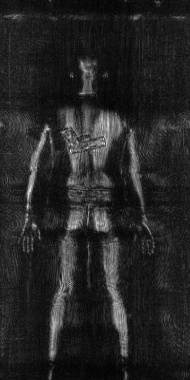gun: (61, 123, 106, 155)
